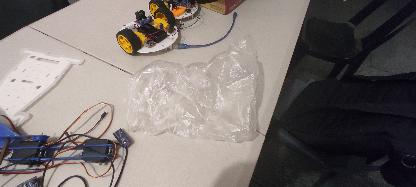Plastic Bag: (128, 36, 258, 142)
